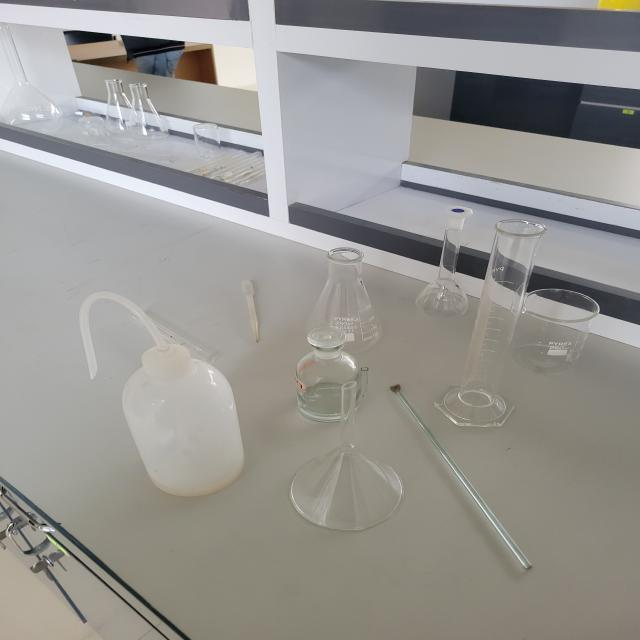Beaker: (508, 276, 605, 385)
Conical_Flask: (299, 226, 394, 354)
Funnel: (274, 377, 414, 554)
Glass_Rod: (386, 364, 540, 584)
Measuring_Cylinder: (428, 199, 546, 437)
Pipette: (227, 262, 280, 344)
Reagent_Bottle: (276, 322, 388, 427)
Volumetric_Flask: (394, 192, 480, 334)
Wash_Bottle: (47, 274, 257, 517)
